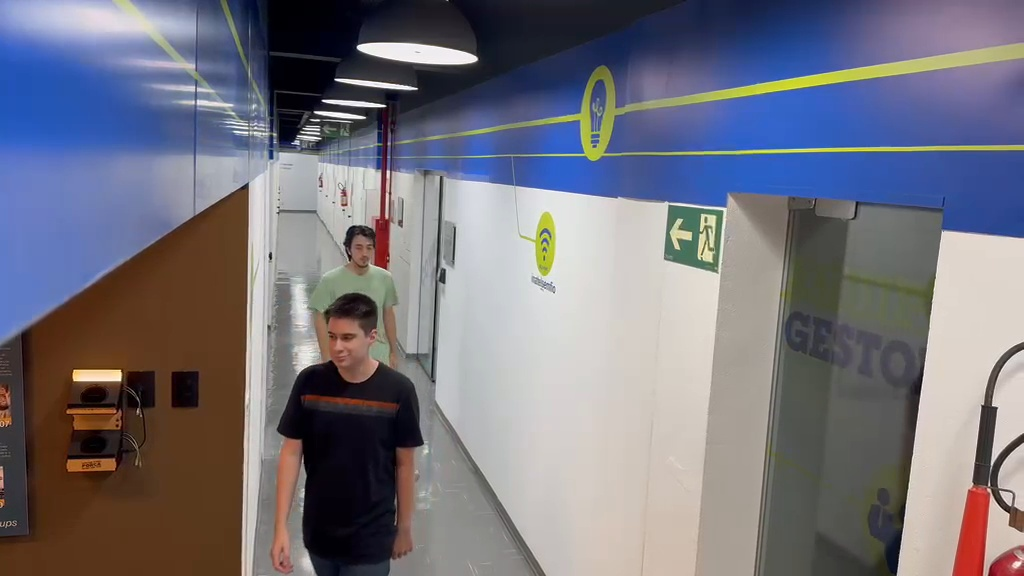person: (270, 290, 425, 574), (308, 223, 404, 368)
